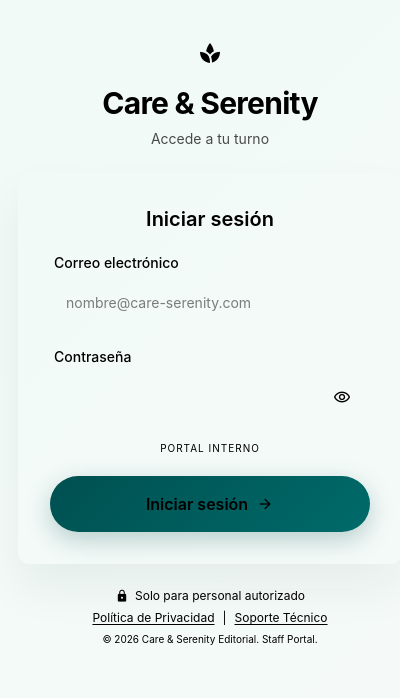
Scenario: LoginPage › should show generic error message when signIn fails
This screenshot has width=400, height=698.
In the field labelled "Correo electrónico": (210, 303) [50,279,370,327], type "test@example.com"
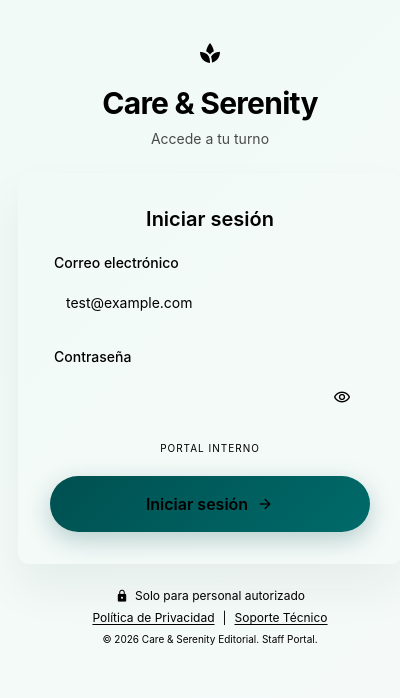
In the password field labelled "Contraseña": (210, 397) [50,373,370,421], type "wrongpass"
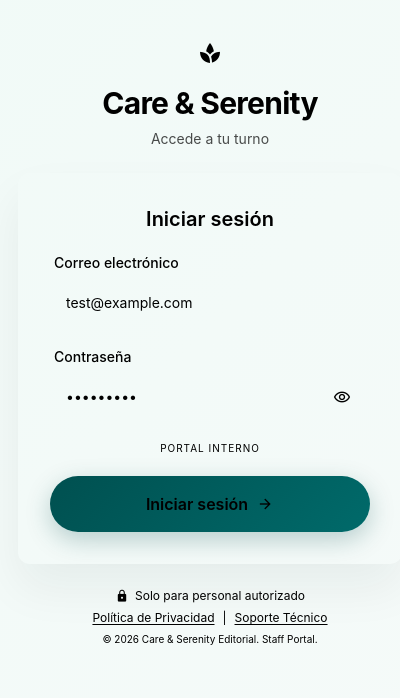
Submit the form, box [50,253,370,532]
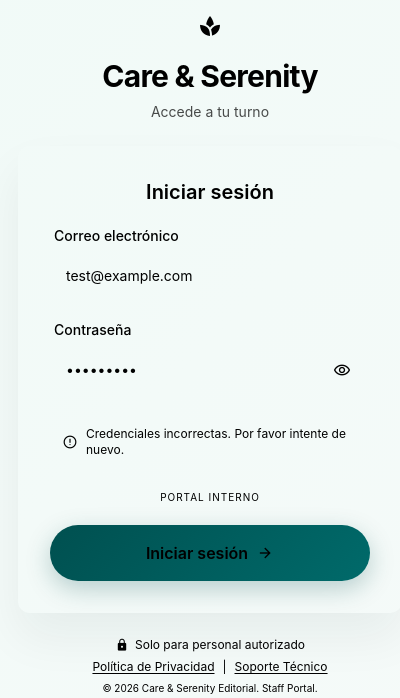
Now the message "Credenciales incorrectas. Por favor intente de nuevo." is shown, box [62,426,346,457]
